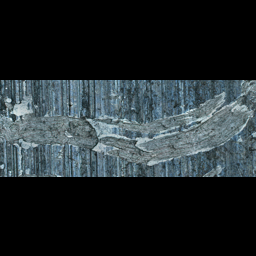d: (111, 109, 214, 167), (47, 111, 128, 161), (194, 82, 254, 145), (0, 88, 46, 155), (0, 160, 32, 176)
